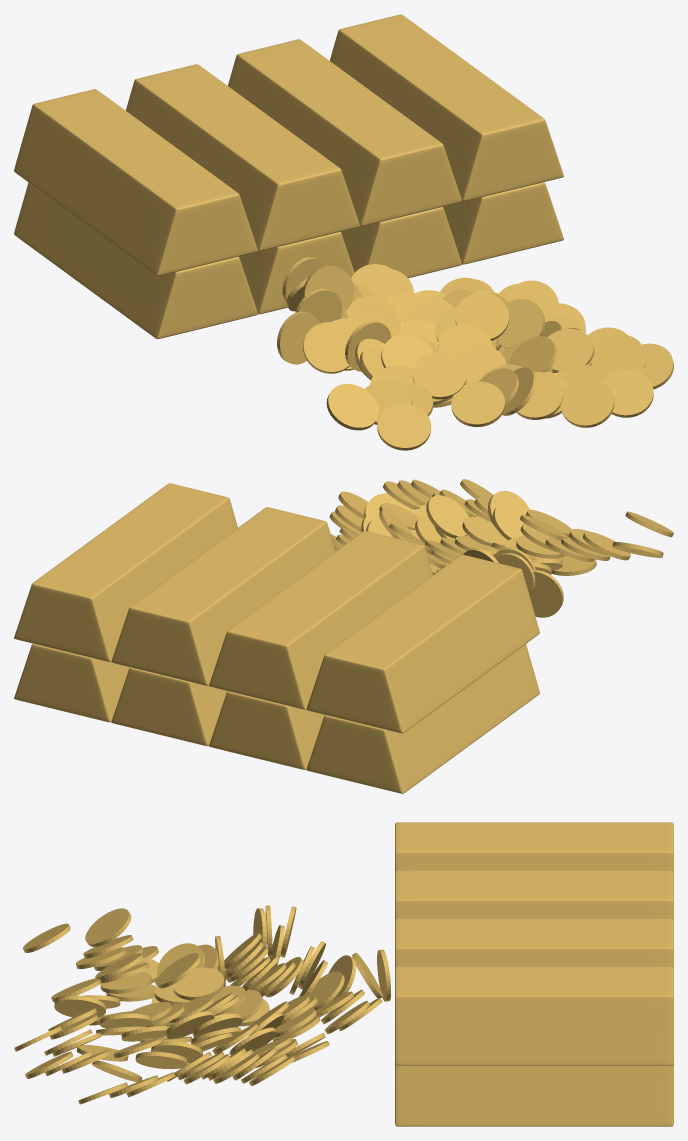
The model's file is gold.fbx.
3 views of the same model, one above another, from view 1: azimuth 30°, elevation 25°; view 2: azimuth 150°, elevation 25°; view 3: azimuth 270°, elevation 25° (orthographic). The views are drawn at different scales.
Parts seen in each view (by area): view 1: gold_bars, gold_coins; view 2: gold_bars, gold_coins; view 3: gold_bars, gold_coins.
Boxes of the visible parts, left/top/right/bottom form: gold_bars: left=14, top=14, right=563, bottom=339; gold_coins: left=277, top=257, right=673, bottom=450; gold_bars: left=14, top=483, right=539, bottom=793; gold_coins: left=329, top=479, right=673, bottom=617; gold_bars: left=395, top=822, right=673, bottom=1126; gold_coins: left=14, top=905, right=390, bottom=1104.
Size of the model in its own units: 91.67 by 30.03 by 133.
